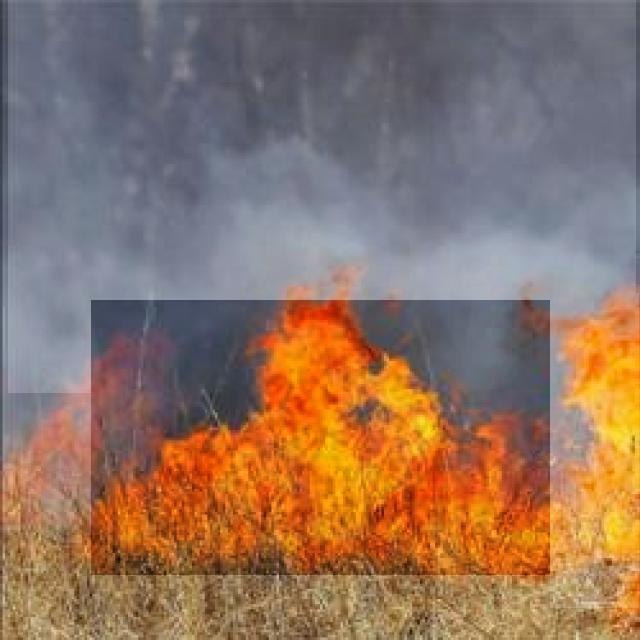Fire: (91, 300, 577, 575), (550, 293, 639, 608)
Smoke: (8, 0, 636, 393)
